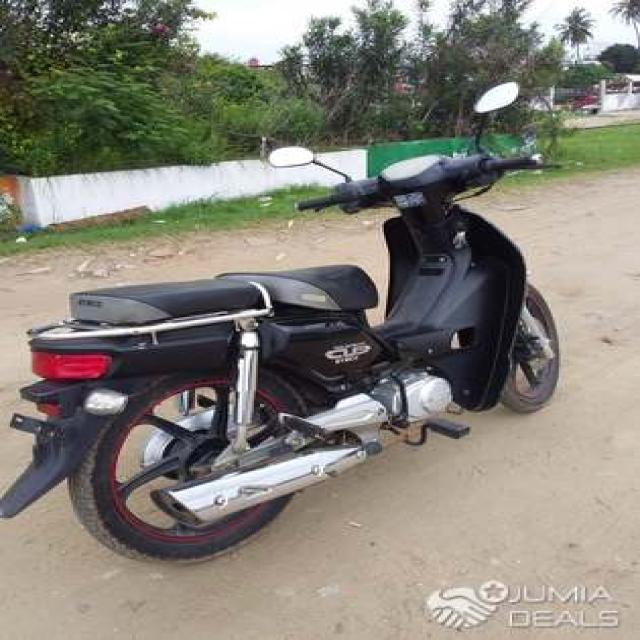Motorcycle: (2, 154, 561, 562)
